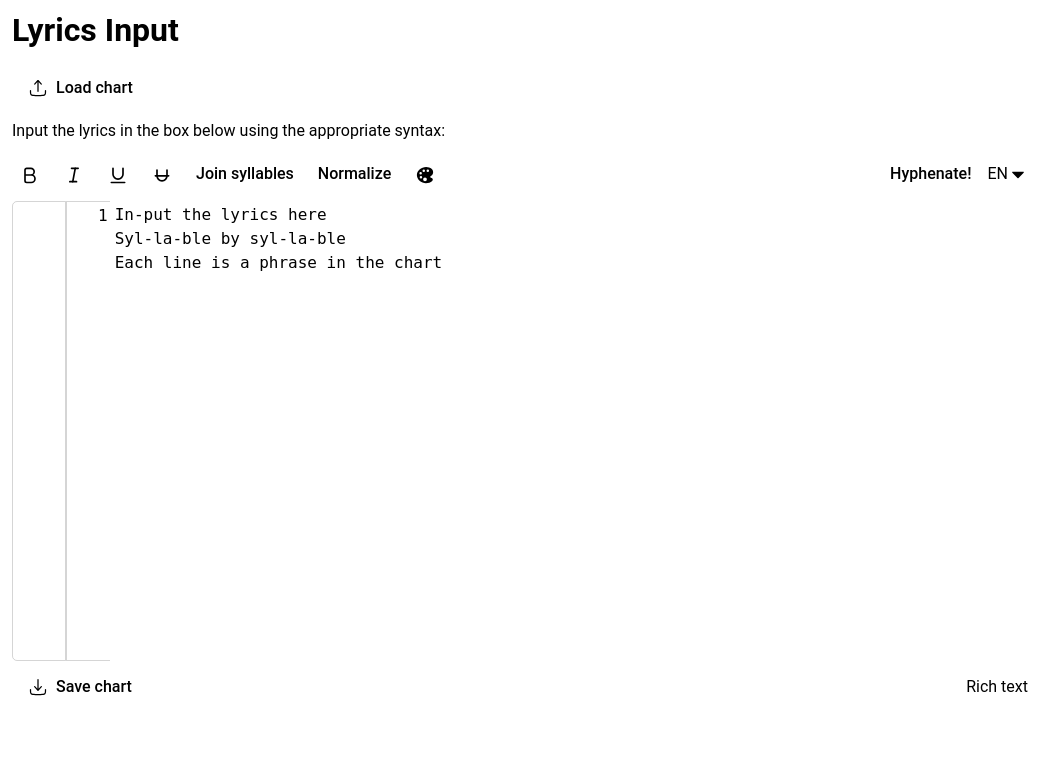
Scenario: LyricsInputView › truncates input beyond 9 characters and strips invalid characters
Click the button "Load chart".
click(80, 88)  # box [12,70,149,106]
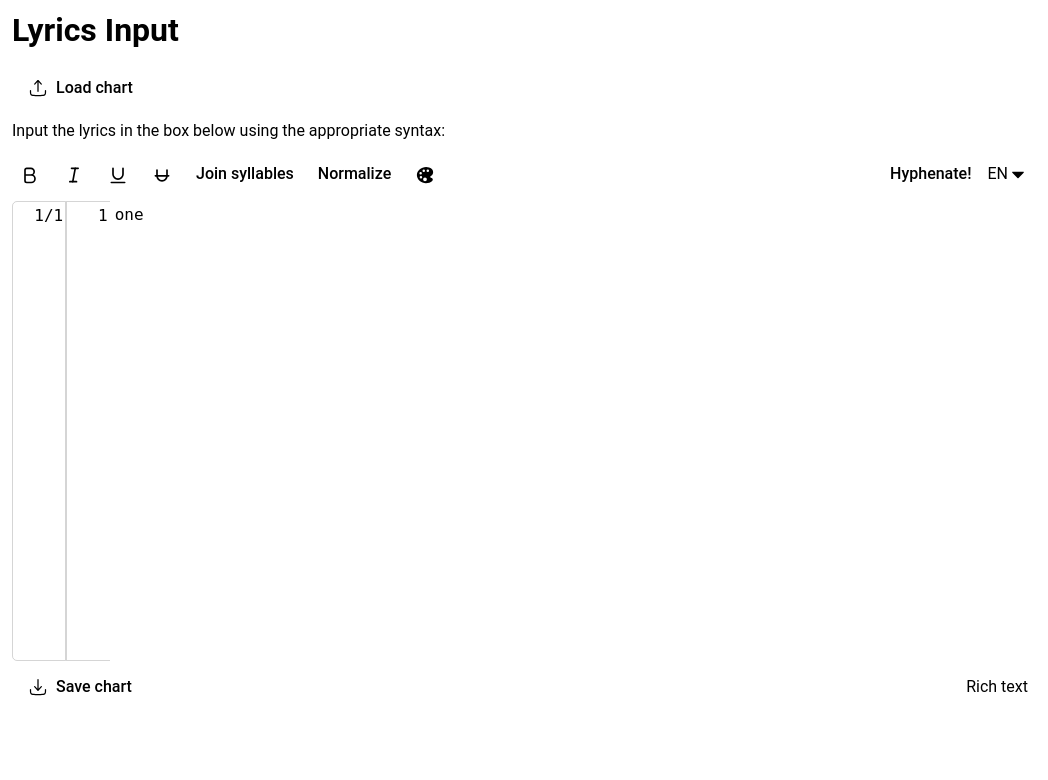
Click the button named "Apply a color".
click(425, 175)  # box [407,157,443,193]
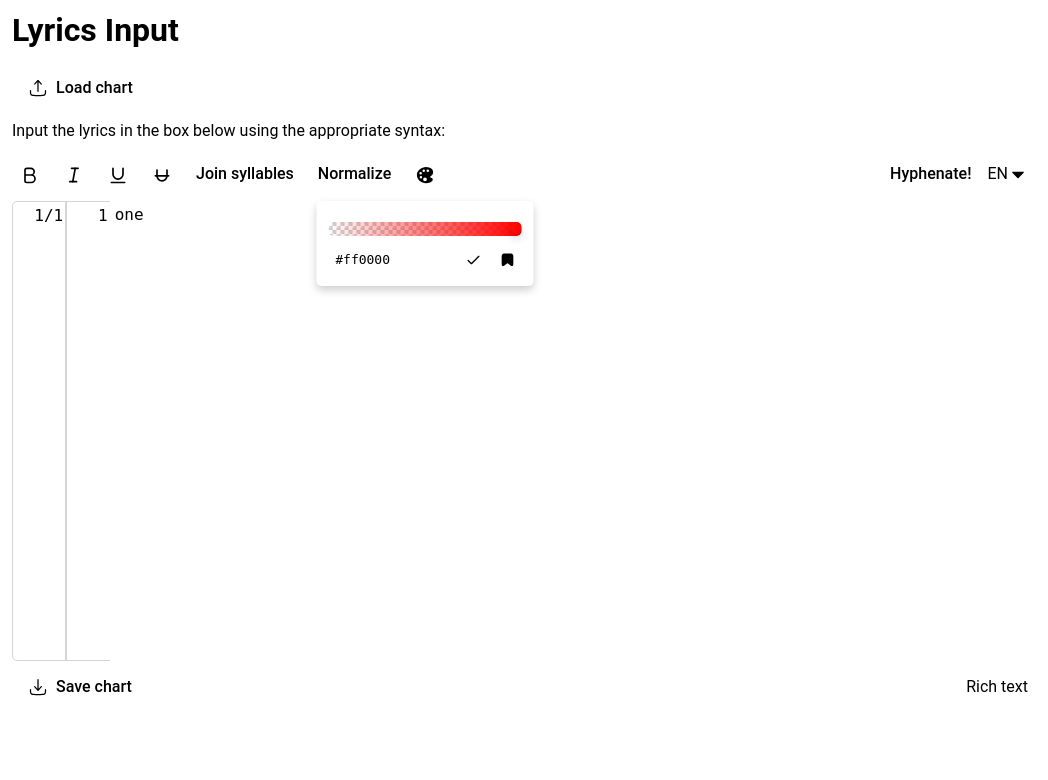
Replace the text in the field with class "hex-value" with "ff000080ff0000extra!!" at (363, 260), box [329,246,396,274]
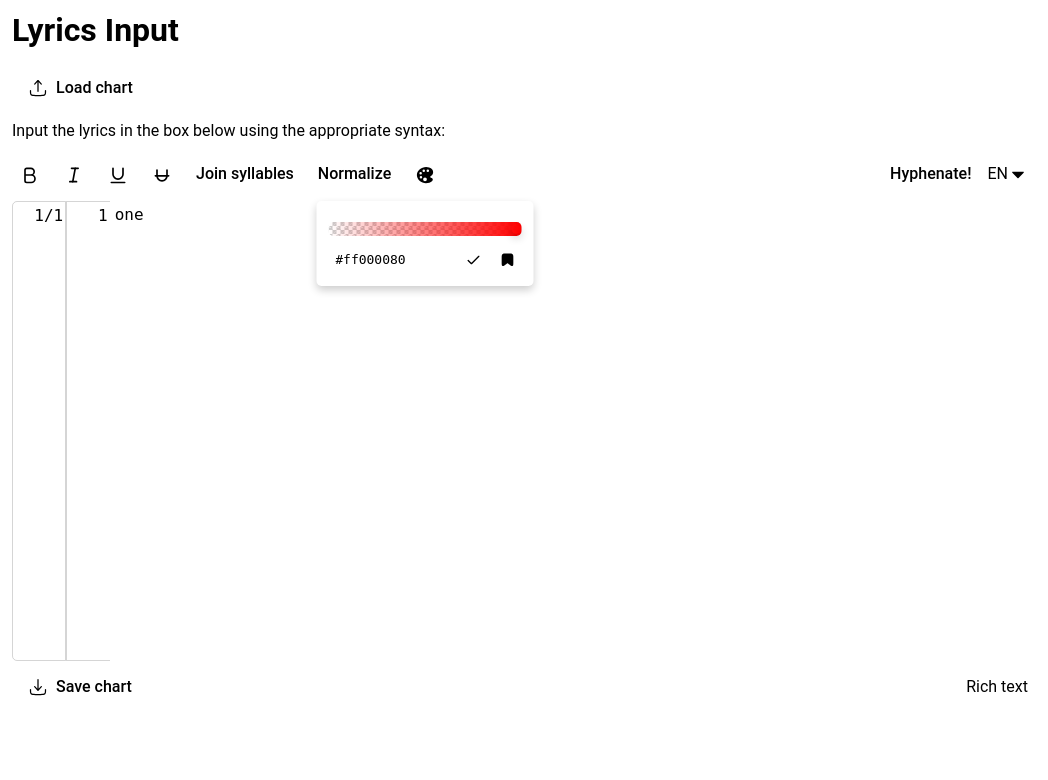
Now the field with class "hex-value" holds "#ff000080", box [329,246,412,274]
